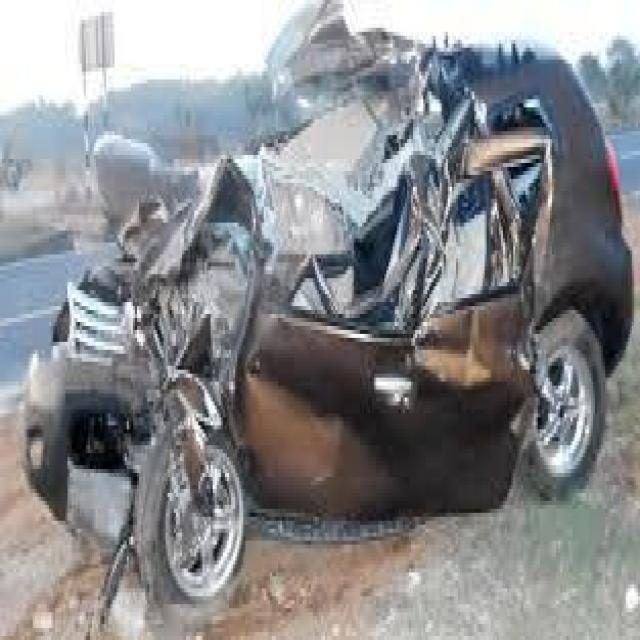severe: (14, 11, 636, 592)
